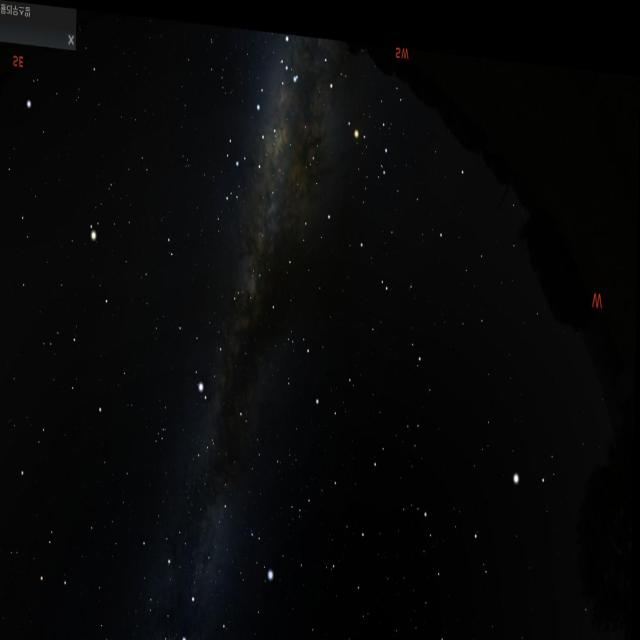aquila: (166, 261, 260, 449)
bootes: (431, 411, 538, 640)
cygnus: (163, 459, 236, 640)
lyra: (240, 509, 282, 575)
sagittarius: (204, 107, 274, 217)
scorpius: (274, 38, 400, 198)
